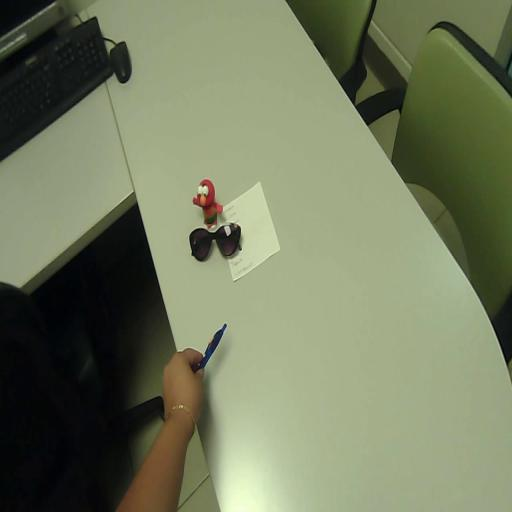pen: (198, 324, 226, 368)
